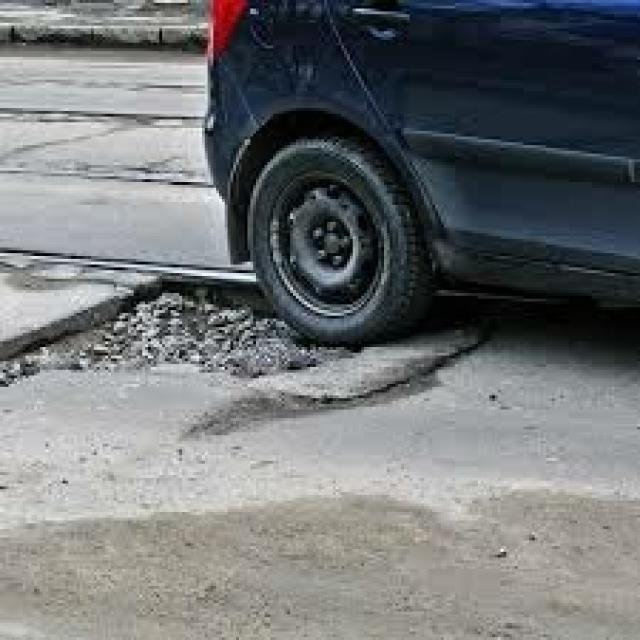pothole: (9, 248, 370, 418)
